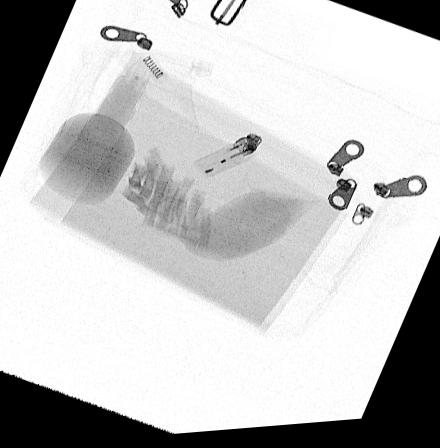Lighter: (199, 136, 264, 181)
